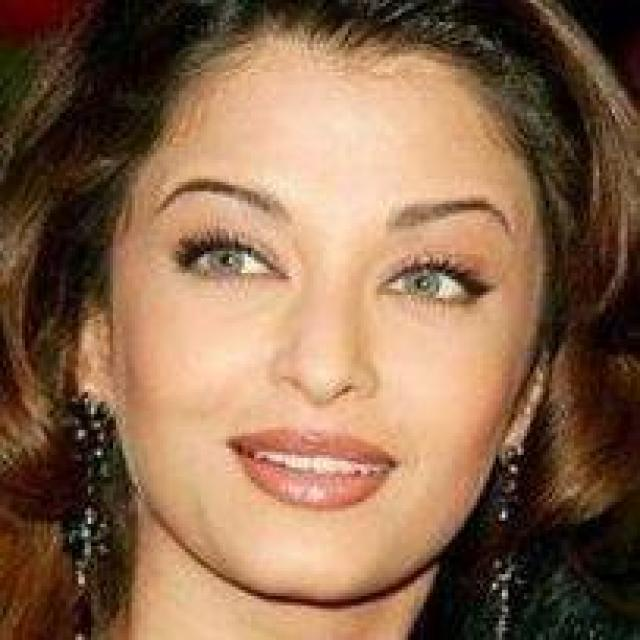surprised: (100, 32, 534, 600)
